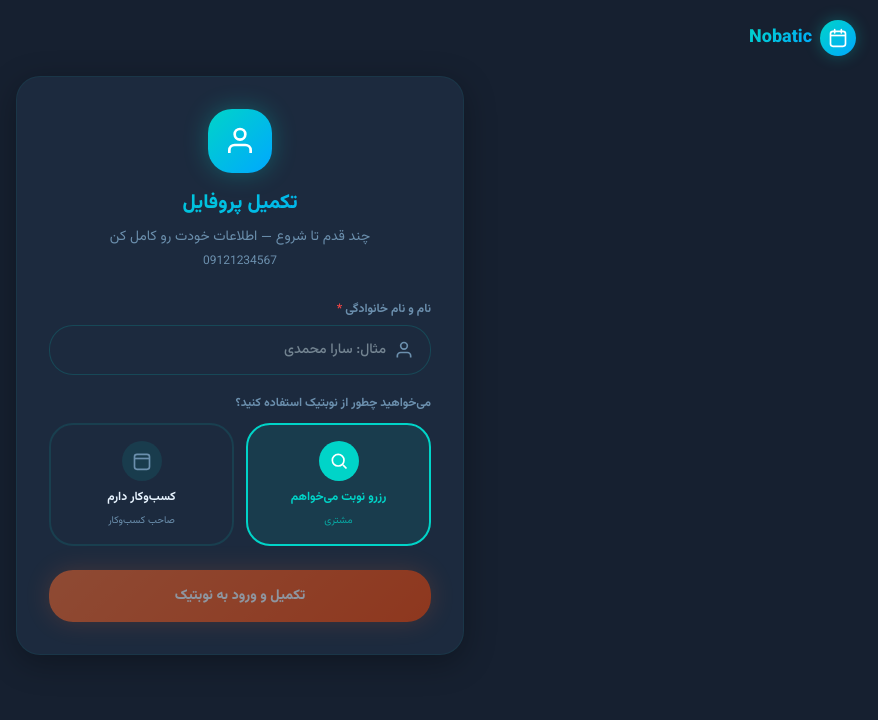
it: SetupProfilePage › shows client-side error when name is too short
Type "ع" into the field labelled "نام و نام خانوادگی *" at (226, 350), box x1=66 y1=340 x2=386 y2=360
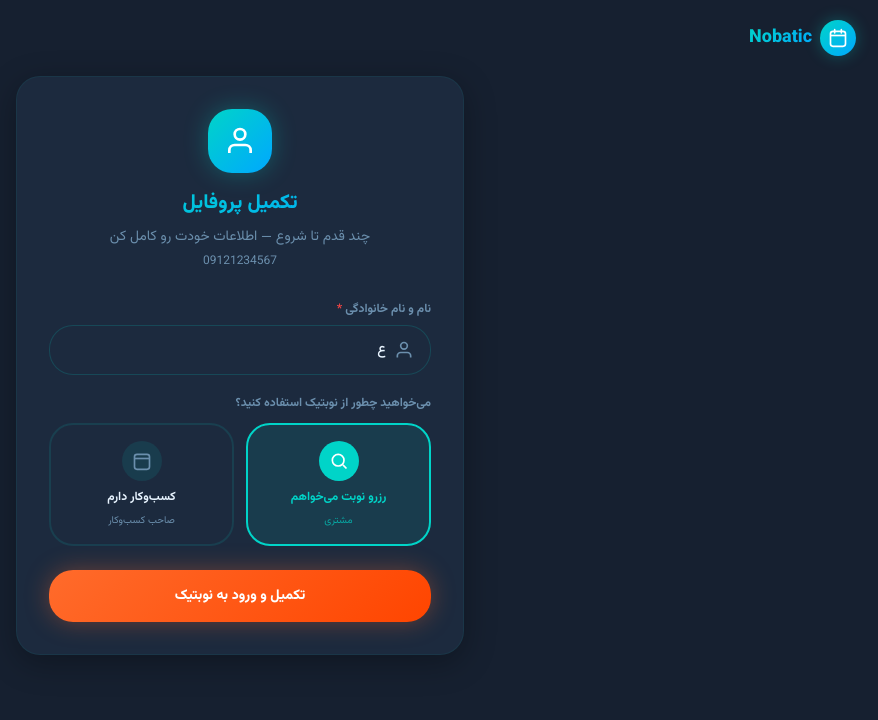
Submit the form named "تکمیل و ورود به نوبتیک", box x1=49 y1=301 x2=431 y2=622
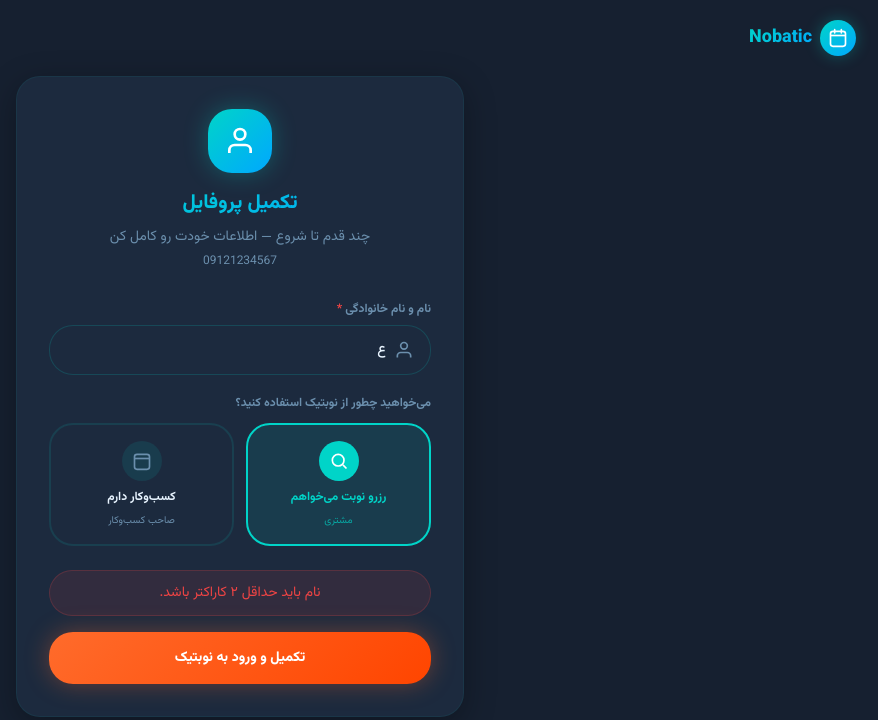
Result: the text "نام باید حداقل ۲ کاراکتر باشد." is shown at x1=49 y1=570 x2=431 y2=616
